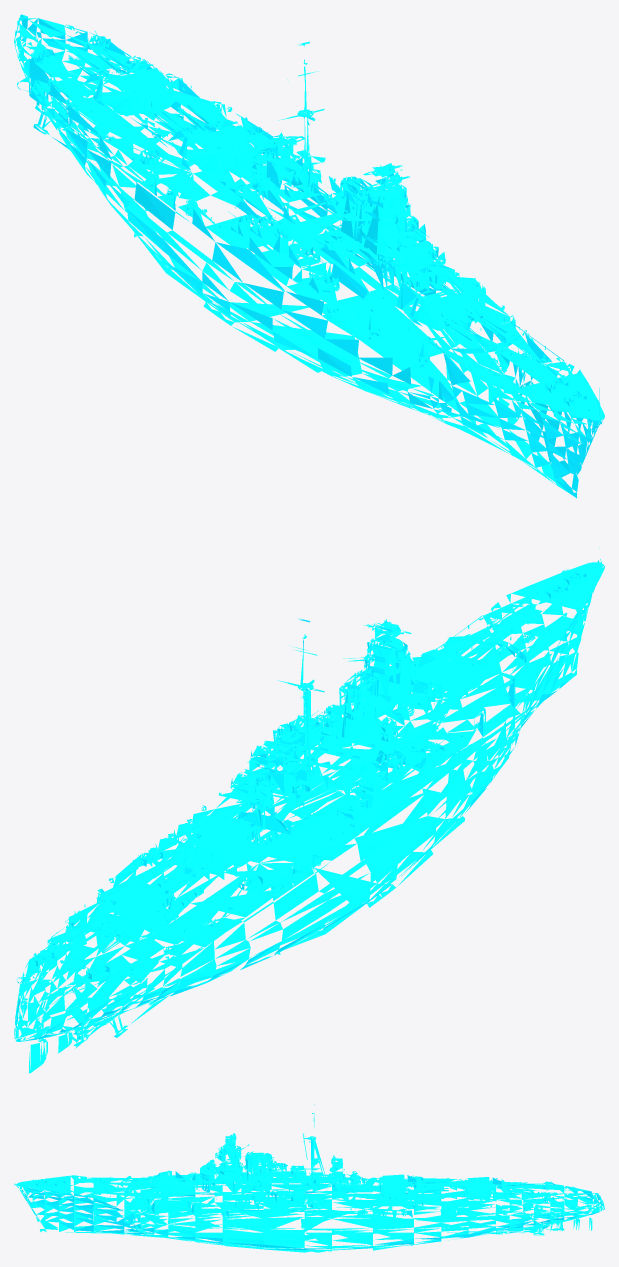
The model's file is PRSB909.glb.
The picture shows the model from 3 angles, top to bottom: view 1: azimuth 30°, elevation 25°; view 2: azimuth 150°, elevation 25°; view 3: azimuth 270°, elevation 25°; orthographic projection. The views are drawn at different scales.
Visible parts, largest first — view 1: hull_mid, hull_bow, main_battery, hull_stern, secondary_battery, superstructure, aa_mount; view 2: hull_mid, hull_bow, hull_stern, main_battery, secondary_battery, superstructure, aa_mount; view 3: hull_mid, hull_bow, hull_stern, main_battery, secondary_battery, superstructure, aa_mount.
Part boxes in pixels (x1,y1,x2,y2): hull_mid: (65,63,525,426); hull_bow: (429,321,604,498); main_battery: (68,47,506,341); hull_stern: (14,14,181,167); secondary_battery: (41,60,507,363); superstructure: (253,41,416,245); aa_mount: (38,31,581,404); hull_mid: (66,636,528,1006); hull_bow: (435,548,604,750); hull_stern: (14,917,182,1073); main_battery: (68,635,507,953); secondary_battery: (47,691,515,977); superstructure: (254,618,417,797); aa_mount: (38,568,581,976); hull_mid: (130,1113,506,1252); hull_bow: (14,1175,147,1235); hull_stern: (486,1180,604,1235); main_battery: (127,1170,533,1200); secondary_battery: (144,1165,531,1214); superstructure: (206,1104,359,1185); aa_mount: (38,1163,551,1207).
Bounding box in the file's own units: 2.39 × 3.48 × 14.45.
